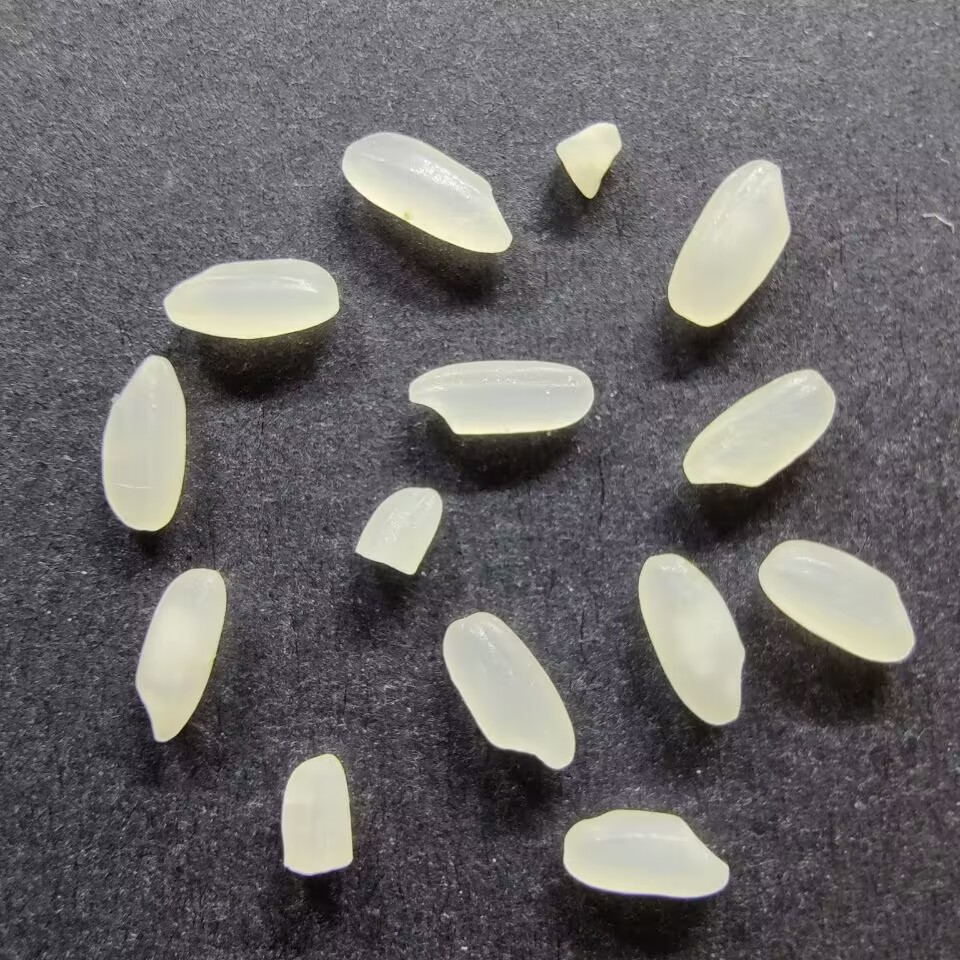broken: (279, 751, 356, 877), (352, 483, 444, 577), (551, 115, 625, 205)
rice: (439, 610, 578, 772), (339, 129, 515, 254), (665, 157, 792, 329), (755, 538, 916, 665), (635, 552, 747, 728), (681, 367, 839, 490), (131, 566, 228, 743), (97, 354, 189, 533), (559, 807, 732, 900), (405, 357, 595, 438), (160, 255, 341, 340)
